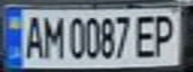0: (66, 13, 84, 60), (84, 13, 100, 60)
7: (112, 12, 133, 60)
8: (100, 12, 118, 60)
A: (18, 11, 45, 60)
E: (133, 11, 160, 60)
M: (39, 12, 66, 61)
P: (148, 11, 184, 58)
